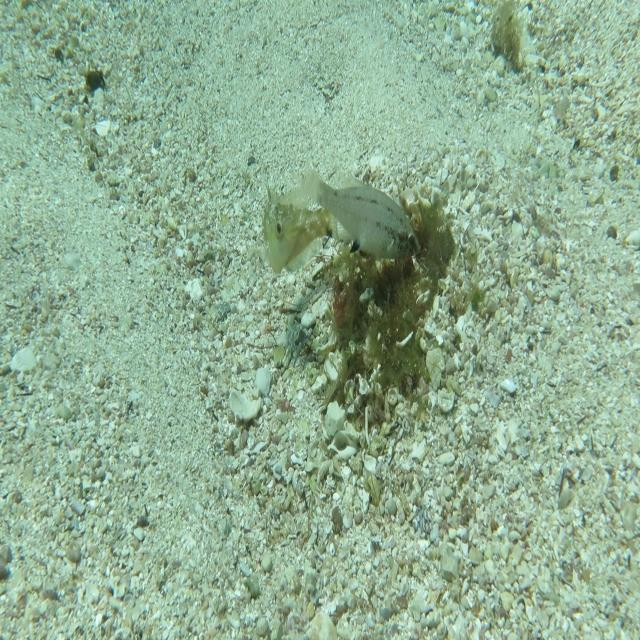BEND: (252, 175, 344, 278)
core_nest: (385, 225, 430, 272)
female: (294, 161, 422, 260)
nest: (318, 163, 468, 436)
